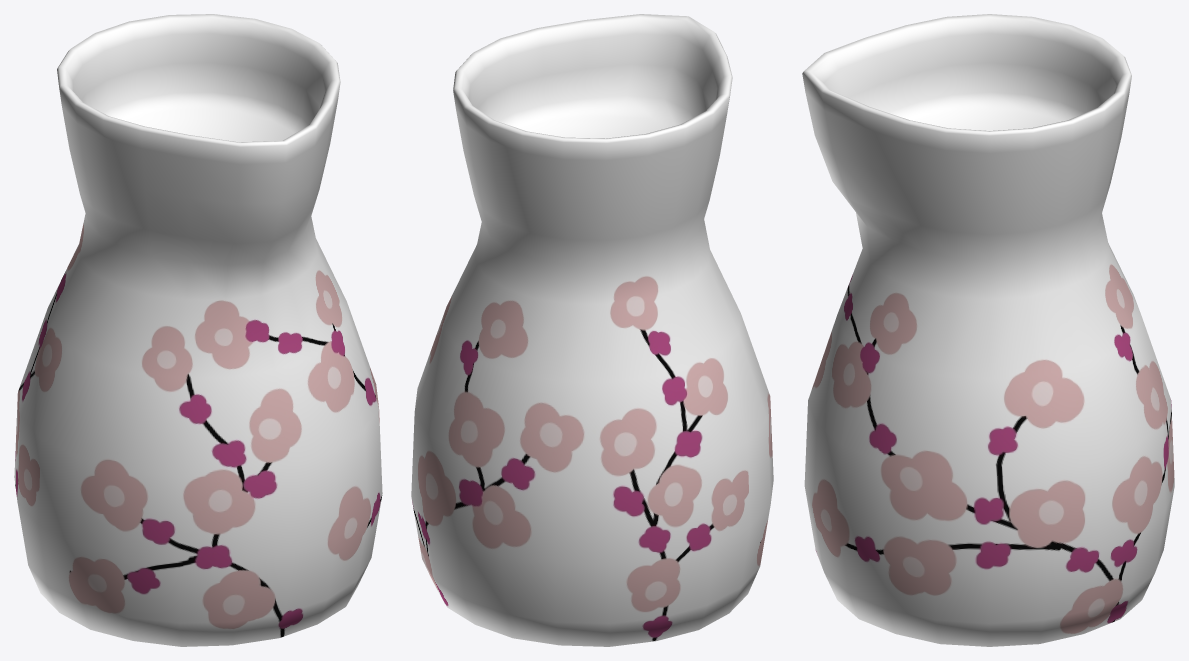
File: sake vrc fbx file negativni.fbx
3 renders of one model, left to right at view 1: azimuth 30°, elevation 25°; view 2: azimuth 150°, elevation 25°; view 3: azimuth 270°, elevation 25°, orthographic.
Visible parts, largest first — view 1: sake vrc; view 2: sake vrc; view 3: sake vrc.
Part boxes in pixels (x1,y1,x2,y2): sake vrc: (14, 14, 382, 646); sake vrc: (411, 14, 773, 646); sake vrc: (802, 14, 1174, 646).
Size of the model in its own units: 43.03 by 64.94 by 43.33.
1 material, 1 textured.
